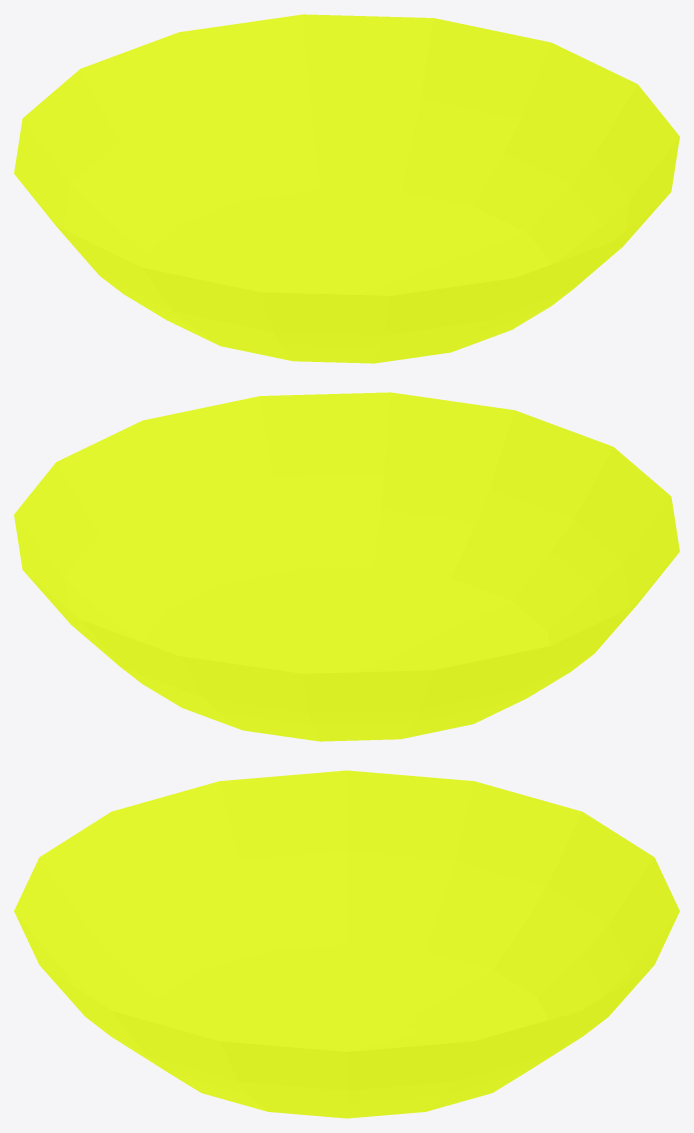
The model's file is delosReyes_fanLight.glb.
3 renders of one model, top to bottom at view 1: azimuth 30°, elevation 25°; view 2: azimuth 150°, elevation 25°; view 3: azimuth 270°, elevation 25°, orthographic.
Visible parts, largest first — view 1: fanLight; view 2: fanLight; view 3: fanLight.
Part boxes in pixels (bbox=[...]): fanLight: bbox=[14, 14, 679, 363]; fanLight: bbox=[14, 392, 679, 741]; fanLight: bbox=[14, 770, 679, 1118].
Size of the model in its own units: 1.94 by 0.4588 by 1.94.
